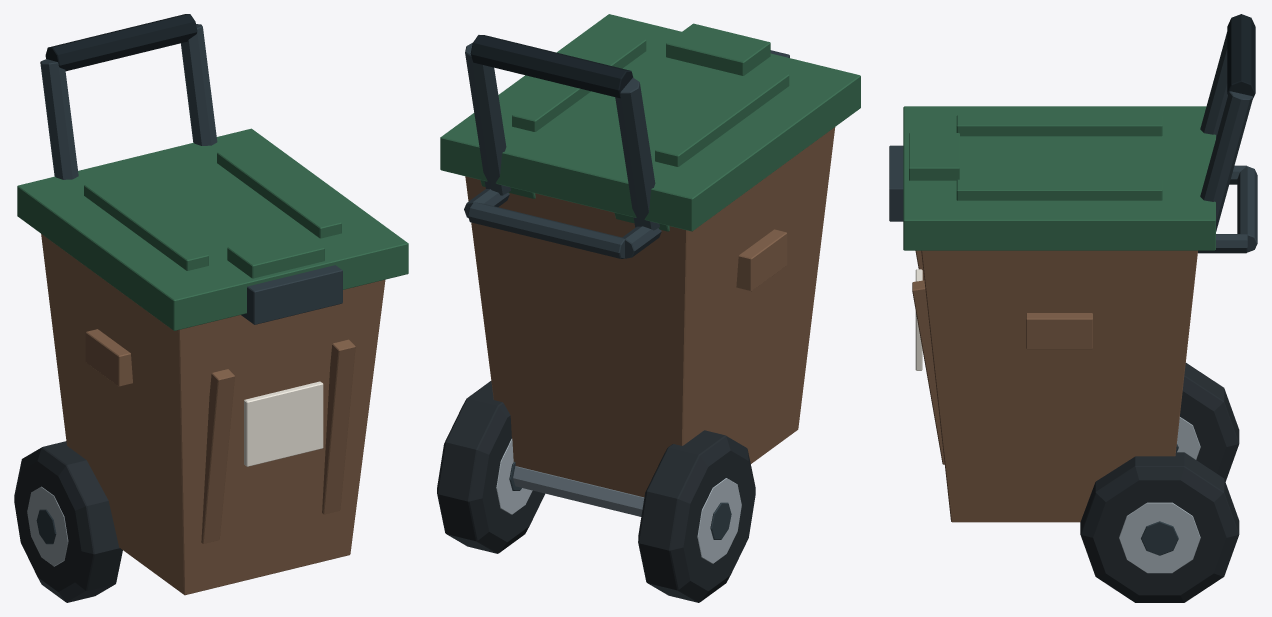
Rendered from b04_small_food_scrap_curb_cart.glb.
3 views of the same model, side by side, from view 1: azimuth 30°, elevation 25°; view 2: azimuth 150°, elevation 25°; view 3: azimuth 270°, elevation 25° (orthographic). The views are drawn at different scales.
Parts seen in each view (by area): view 1: b04_small_food_scrap_curb_cart; view 2: b04_small_food_scrap_curb_cart; view 3: b04_small_food_scrap_curb_cart.
Boxes of the visible parts, bbox=[...] form: b04_small_food_scrap_curb_cart: bbox=[14, 14, 408, 602]; b04_small_food_scrap_curb_cart: bbox=[437, 14, 860, 602]; b04_small_food_scrap_curb_cart: bbox=[889, 14, 1257, 602].
Size of the model in its own units: 0.475 by 0.9781 by 0.6487.
